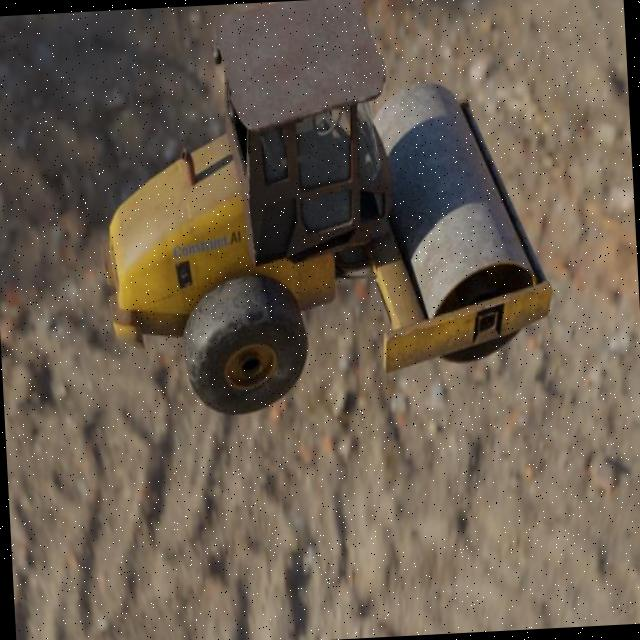Roller: (88, 0, 558, 421)
